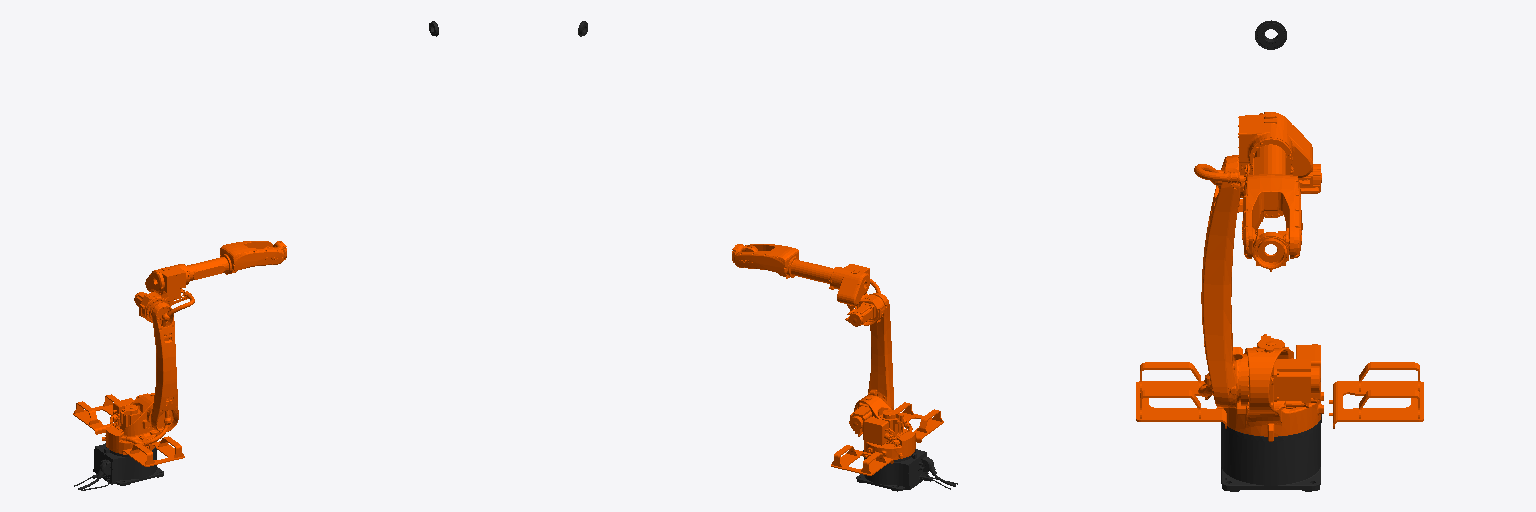
robot.urdf — kuka_kr_6_r2010_2_arc_hw_e:
<?xml version="1.0"?>
<robot name="kuka_kr_6_r2010_2_arc_hw_e">
  <material name="kuka_orange"><color rgba="1.00 0.40 0.00 1.0"/></material>
  <material name="kuka_dark_gray"><color rgba="0.20 0.20 0.20 1.0"/></material>

  <link name="base_link">
    <inertial>
      <origin xyz="-0.060817 -0.007878 0.101647" rpy="0 0 0"/>
      <mass value="10.667"/>
      <inertia ixx="0.134476" ixy="-0.013537" ixz="-0.007397" iyy="0.212150" iyz="-0.001589" izz="0.249278"/>
    </inertial>
    <visual>
      <origin xyz="0 0 0" rpy="0 0 0"/>
      <geometry><mesh filename="meshes/visual/base_link.stl"/></geometry>
      <material name="kuka_dark_gray"/>
    </visual>
    <collision>
      <origin xyz="0 0 0" rpy="0 0 0"/>
      <geometry><mesh filename="meshes/visual/base_link.stl"/></geometry>
    </collision>
  </link>

  <link name="link_1">
    <inertial>
      <origin xyz="0.032338 0.014632 0.348315" rpy="0 0 0"/>
      <mass value="59.500"/>
      <inertia ixx="2.397930" ixy="0.015997" ixz="-0.130615" iyy="0.808728" iyz="0.001199" izz="2.615560"/>
    </inertial>
    <visual>
      <origin xyz="0 0 0" rpy="0 0 0"/>
      <geometry><mesh filename="meshes/visual/link_1.stl"/></geometry>
      <material name="kuka_orange"/>
    </visual>
    <collision>
      <origin xyz="0 0 0" rpy="0 0 0"/>
      <geometry><mesh filename="meshes/visual/link_1.stl"/></geometry>
    </collision>
  </link>

  <link name="link_2">
    <inertial>
      <origin xyz="-0.000294 -0.169648 0.369705" rpy="0 0 0"/>
      <mass value="137.400"/>
      <inertia ixx="8.780053" ixy="0.000081" ixz="-0.009189" iyy="8.853906" iyz="-0.149813" izz="0.518369"/>
    </inertial>
    <visual>
      <origin xyz="0 0 0" rpy="0 0 0"/>
      <geometry><mesh filename="meshes/visual/link_2.stl"/></geometry>
      <material name="kuka_orange"/>
    </visual>
    <collision>
      <origin xyz="0 0 0" rpy="0 0 0"/>
      <geometry><mesh filename="meshes/visual/link_2.stl"/></geometry>
    </collision>
  </link>

  <link name="link_3">
    <inertial>
      <origin xyz="0.085612 -0.014729 0.088068" rpy="0 0 0"/>
      <mass value="67.300"/>
      <inertia ixx="0.820276" ixy="0.076746" ixz="-0.193150" iyy="0.807816" iyz="0.031877" izz="0.755423"/>
    </inertial>
    <visual>
      <origin xyz="0 0 0" rpy="0 0 0"/>
      <geometry><mesh filename="meshes/visual/link_3.stl"/></geometry>
      <material name="kuka_orange"/>
    </visual>
    <collision>
      <origin xyz="0 0 0" rpy="0 0 0"/>
      <geometry><mesh filename="meshes/visual/link_3.stl"/></geometry>
    </collision>
  </link>

  <link name="link_4">
    <inertial>
      <origin xyz="-0.342792 0.002134 0.013248" rpy="0 0 0"/>
      <mass value="16.000"/>
      <inertia ixx="0.077767" ixy="-0.005516" ixz="-0.017170" iyy="0.522953" iyz="-0.000060" izz="0.543500"/>
    </inertial>
    <visual>
      <origin xyz="0 0 0" rpy="0 0 0"/>
      <geometry><mesh filename="meshes/visual/link_4.stl"/></geometry>
      <material name="kuka_orange"/>
    </visual>
    <collision>
      <origin xyz="0 0 0" rpy="0 0 0"/>
      <geometry><mesh filename="meshes/visual/link_4.stl"/></geometry>
    </collision>
  </link>

  <link name="link_5">
    <inertial>
      <origin xyz="0.037671 -0.003733 -0.000742" rpy="0 0 0"/>
      <mass value="6.800"/>
      <inertia ixx="0.019011" ixy="-0.000459" ixz="0.000053" iyy="0.019414" iyz="0.000015" izz="0.021762"/>
    </inertial>
    <visual>
      <origin xyz="0 0 0" rpy="0 0 0"/>
      <geometry><mesh filename="meshes/visual/link_5.stl"/></geometry>
      <material name="kuka_orange"/>
    </visual>
    <collision>
      <origin xyz="0 0 0" rpy="0 0 0"/>
      <geometry><mesh filename="meshes/visual/link_5.stl"/></geometry>
    </collision>
  </link>

  <link name="link_6">
    <inertial>
      <origin xyz="1.259054 0.000007 1.474515" rpy="0 0 0"/>
      <mass value="3.400"/>
      <inertia ixx="0.007192" ixy="-0.000000" ixz="-0.000000" iyy="0.005474" iyz="0.000000" izz="0.005474"/>
    </inertial>
    <visual>
      <origin xyz="0 0 0" rpy="0 0 0"/>
      <geometry><mesh filename="meshes/visual/link_6.stl"/></geometry>
      <material name="kuka_dark_gray"/>
    </visual>
    <collision>
      <origin xyz="0 0 0" rpy="0 0 0"/>
      <geometry><mesh filename="meshes/visual/link_6.stl"/></geometry>
    </collision>
  </link>

  <link name="tool0"/>

  <joint name="joint_a1" type="revolute">
    <parent link="base_link"/>
    <child link="link_1"/>
    <origin xyz="0.000000 0.000000 0.000000" rpy="0 0 0"/>
    <axis xyz="0.0 0.0 -1.0"/>
    <limit lower="-2.967060" upper="2.967060" effort="940.8" velocity="3.490659"/>
    <dynamics damping="5.0" friction="1.0"/>
  </joint>

  <joint name="joint_a2" type="revolute">
    <parent link="link_1"/>
    <child link="link_2"/>
    <origin xyz="0.180000 0.000000 0.453000" rpy="0 0 0"/>
    <axis xyz="0.0 1.0 0.0"/>
    <limit lower="-1.658063" upper="2.705260" effort="981.1" velocity="2.879793"/>
    <dynamics damping="5.0" friction="1.0"/>
  </joint>

  <joint name="joint_a3" type="revolute">
    <parent link="link_2"/>
    <child link="link_3"/>
    <origin xyz="0.000000 0.000000 0.820000" rpy="0 0 0"/>
    <axis xyz="0.0 1.0 0.0"/>
    <limit lower="-3.700098" upper="1.535890" effort="325.8" velocity="3.490656"/>
    <dynamics damping="5.0" friction="1.0"/>
  </joint>

  <joint name="joint_a4" type="revolute">
    <parent link="link_3"/>
    <child link="link_4"/>
    <origin xyz="0.990000 0.000000 0.202000" rpy="0 0 0"/>
    <axis xyz="-1.0 0.0 -0.0"/>
    <limit lower="-2.879793" upper="2.879793" effort="87.9" velocity="7.504916"/>
    <dynamics damping="5.0" friction="1.0"/>
  </joint>

  <joint name="joint_a5" type="revolute">
    <parent link="link_4"/>
    <child link="link_5"/>
    <origin xyz="0.000000 0.000000 0.000000" rpy="0 0 0"/>
    <axis xyz="0.0 1.0 0.0"/>
    <limit lower="-2.443461" upper="2.443461" effort="49.3" velocity="7.504909"/>
    <dynamics damping="5.0" friction="1.0"/>
  </joint>

  <joint name="joint_a6" type="revolute">
    <parent link="link_5"/>
    <child link="link_6"/>
    <origin xyz="0.100000 0.000000 0.000000" rpy="0 0 0"/>
    <axis xyz="-1.0 0.0 -0.0"/>
    <limit lower="-6.108652" upper="6.108652" effort="13.8" velocity="10.995571"/>
    <dynamics damping="5.0" friction="1.0"/>
  </joint>

  <joint name="link_6-tool0" type="fixed">
    <parent link="link_6"/>
    <child link="tool0"/>
    <origin xyz="0.000000 0.000000 0.000000" rpy="0 1.57079632679 0"/>
  </joint>
</robot>

--- What the picture shows (computed from the rendered views, not written in the file) ---
3 views of the same robot in one strip: view 1: azimuth 30°, elevation 25°; view 2: azimuth 150°, elevation 25°; view 3: azimuth 270°, elevation 25° (orthographic).
Robot: kuka_kr_6_r2010_2_arc_hw_e — 8 links, 7 joints (6 revolute, 1 fixed); root link base_link; default pose: every joint at zero.
Links seen in each view (by area): view 1: link_1, link_2, link_4, link_3, base_link; view 2: link_1, link_3, link_4, link_2, base_link; view 3: link_1, link_2, base_link, link_4, link_3, link_5, link_6.
Link boxes in pixels (x1=…): link_1: x1=73, y1=393, x2=184, y2=466; link_2: x1=148, y1=302, x2=178, y2=431; link_4: x1=183, y1=241, x2=284, y2=284; link_3: x1=134, y1=264, x2=194, y2=322; base_link: x1=74, y1=443, x2=163, y2=490; link_1: x1=831, y1=395, x2=943, y2=475; link_3: x1=832, y1=264, x2=884, y2=326; link_4: x1=734, y1=244, x2=836, y2=289; link_2: x1=867, y1=293, x2=893, y2=409; base_link: x1=856, y1=449, x2=957, y2=491; link_1: x1=1136, y1=334, x2=1423, y2=441; link_2: x1=1201, y1=155, x2=1242, y2=407; base_link: x1=1221, y1=414, x2=1321, y2=491; link_4: x1=1242, y1=138, x2=1302, y2=258; link_3: x1=1194, y1=112, x2=1321, y2=198; link_5: x1=1253, y1=229, x2=1288, y2=271; link_6: x1=1255, y1=20, x2=1286, y2=49.
Bounding box of the posed robot: 3.03 × 1.06 × 3.01 m (x, y, z).
Meshes: 7 distinct files referenced, 7 mesh visuals loaded (7 binary STL).
